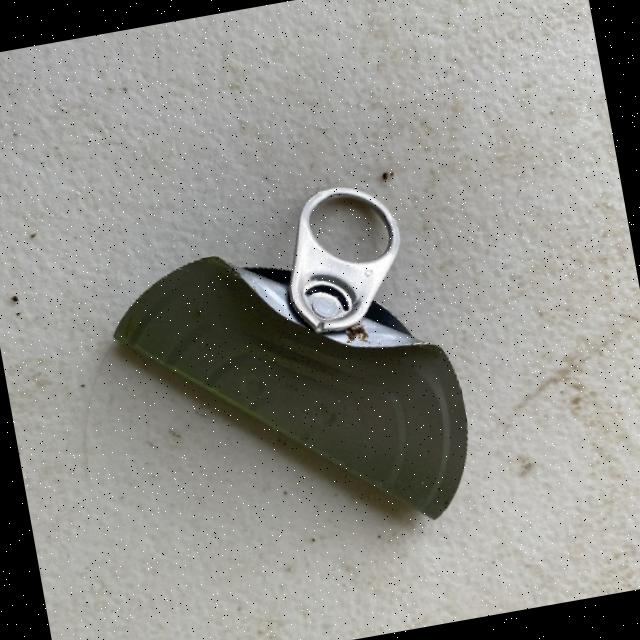metal: (93, 170, 484, 569)
